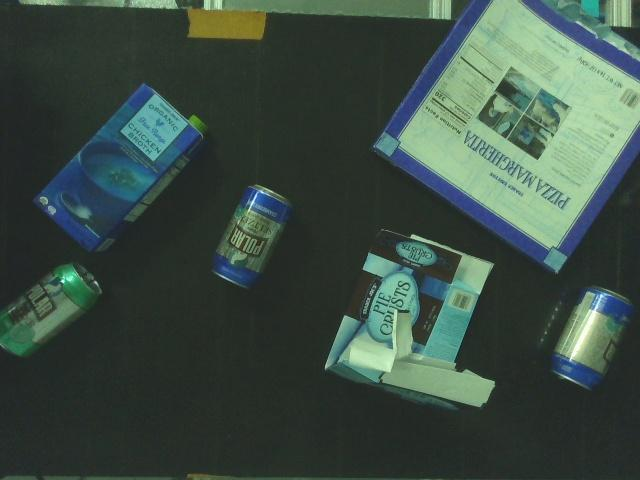cardboard: (370, 0, 640, 277), (321, 225, 498, 426), (31, 80, 213, 258)
metal: (0, 260, 106, 365), (208, 180, 298, 298), (544, 285, 636, 395)
